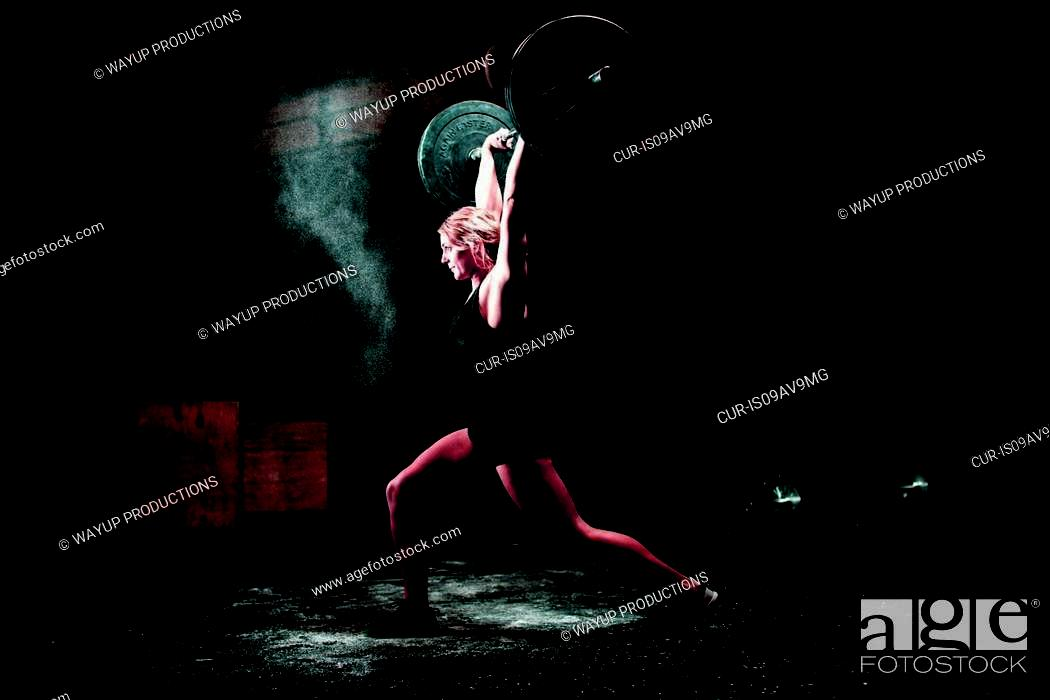Barbell: (595, 47, 628, 104)
